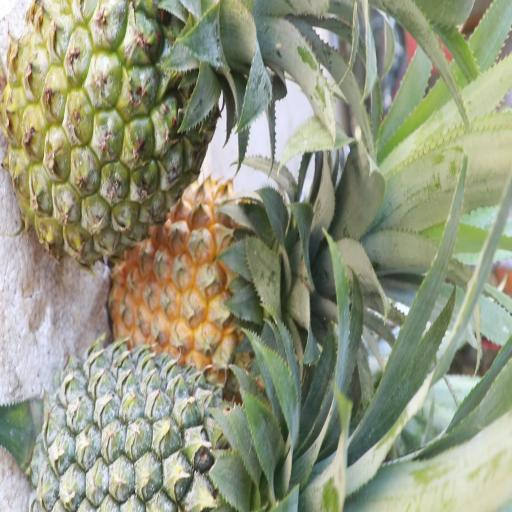------------------------------: (14, 0, 227, 258), (114, 172, 276, 360)
